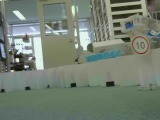speed_10: (128, 35, 150, 55)
